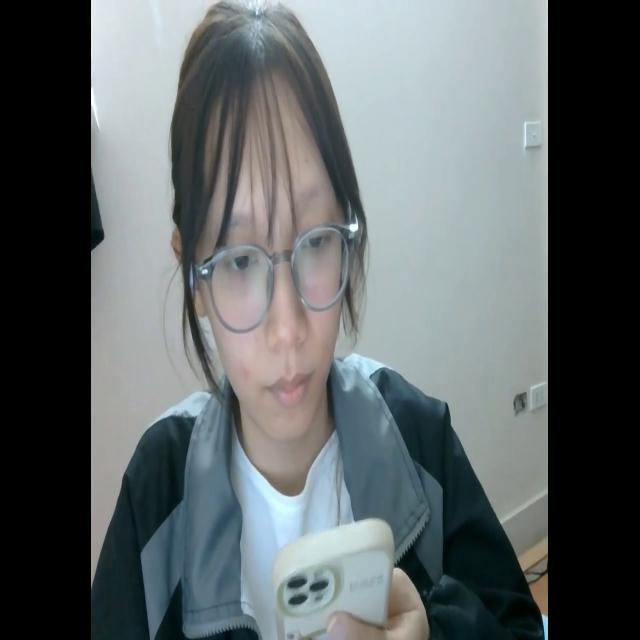phone: (268, 515, 399, 640)
student: (95, 4, 539, 640)
